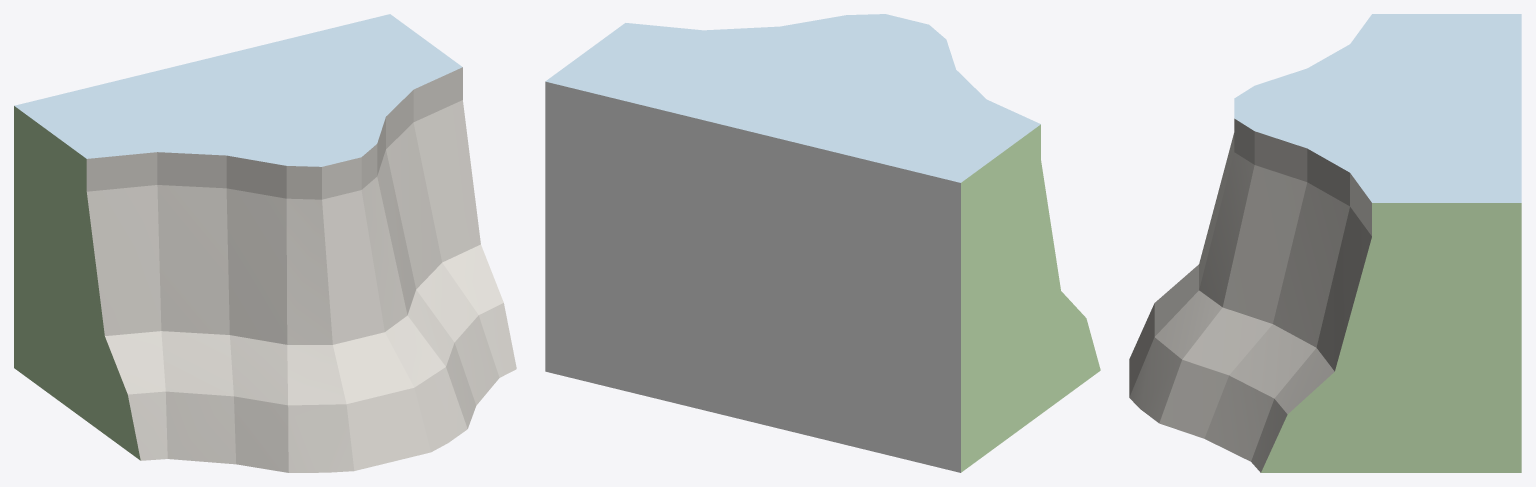
The model's file is Wall_Straight_Deformed_Convex_3x3_Base.glb.
3 renders of one model, left to right at view 1: azimuth 30°, elevation 25°; view 2: azimuth 150°, elevation 25°; view 3: azimuth 270°, elevation 25°, orthographic. The views are drawn at different scales.
Visible parts, largest first — view 1: Wall_Straight_Deformed_Convex_3x3_Base; view 2: Wall_Straight_Deformed_Convex_3x3_Base; view 3: Wall_Straight_Deformed_Convex_3x3_Base.
Part boxes in pixels (left/top/right/bottom): Wall_Straight_Deformed_Convex_3x3_Base: left=14, top=14, right=516, bottom=472; Wall_Straight_Deformed_Convex_3x3_Base: left=545, top=14, right=1100, bottom=472; Wall_Straight_Deformed_Convex_3x3_Base: left=1129, top=14, right=1521, bottom=472.
Bounding box in the file's own units: 300 × 200 × 263.
